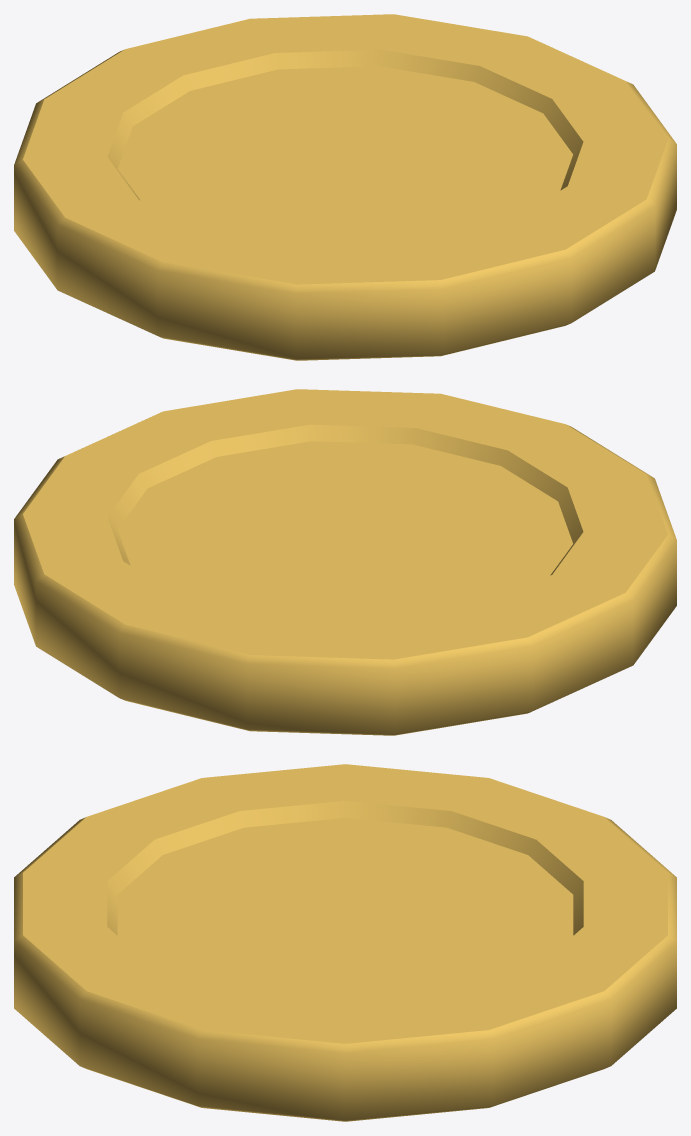
The model's file is Coin.fbx.
3 renders of one model, top to bottom at view 1: azimuth 30°, elevation 25°; view 2: azimuth 150°, elevation 25°; view 3: azimuth 270°, elevation 25°, orthographic. The views are drawn at different scales.
Visible parts, largest first — view 1: Coin; view 2: Coin; view 3: Coin.
Boxes of the visible parts, x1,y1,x2,y2 form: Coin: [14, 14, 676, 360]; Coin: [14, 389, 676, 735]; Coin: [14, 764, 676, 1121].
Bounding box in the file's own units: 60.03 × 7.59 × 58.52.
